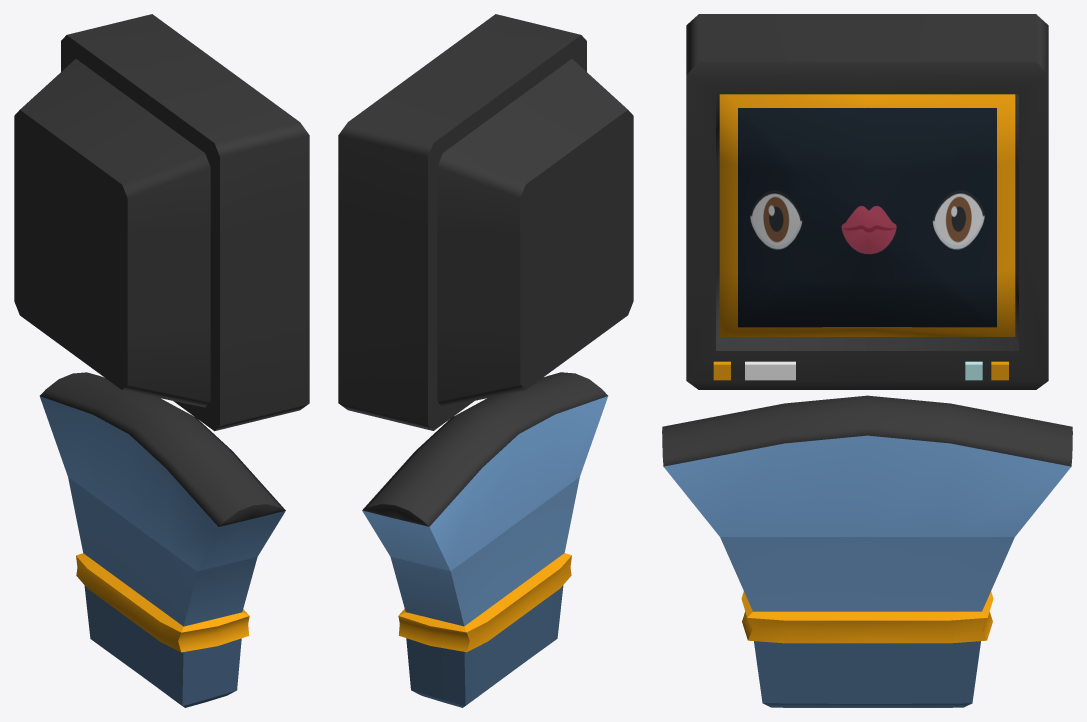
The model's file is robotavatar.glb.
The picture shows the model from 3 angles, left to right: view 1: azimuth 30°, elevation 25°; view 2: azimuth 150°, elevation 25°; view 3: azimuth 270°, elevation 25°; orthographic projection. The views are drawn at different scales.
Visible parts, largest first — view 1: _100Avatars_163_face; view 2: _100Avatars_163_face; view 3: _100Avatars_163_face.
Boxes of the visible parts, bbox=[...] form: _100Avatars_163_face: bbox=[14, 14, 309, 707]; _100Avatars_163_face: bbox=[338, 14, 633, 707]; _100Avatars_163_face: bbox=[662, 14, 1072, 707].
Bounding box in the file's own units: 0.9022 × 3.05 × 1.69.
1 material, 1 textured.
